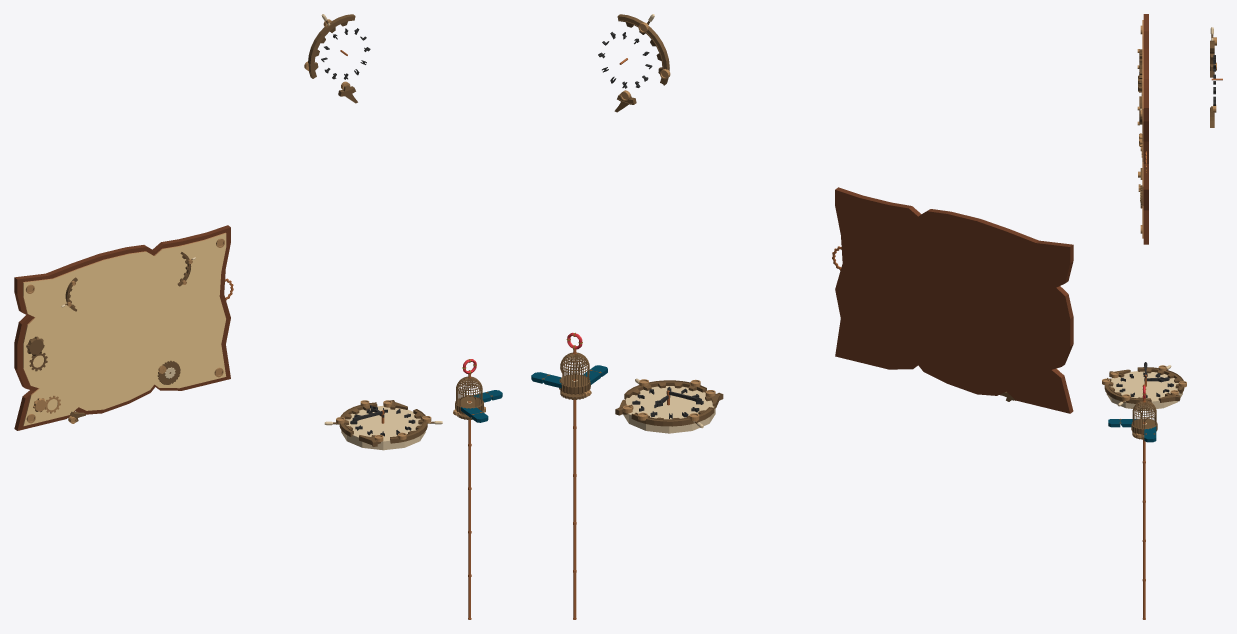
Rendered from Bridge_Canvas_PAsswordPanel_TowerClock_UserWatch.fbx.
3 renders of one model, left to right at view 1: azimuth 30°, elevation 25°; view 2: azimuth 150°, elevation 25°; view 3: azimuth 270°, elevation 25°, orthographic. The views are drawn at different scales.
Visible parts, largest first — view 1: Canvas, UserWatch, BridgeMainCage, TowerClock; view 2: Canvas, UserWatch, BridgeMainCage, TowerClock; view 3: UserWatch, Canvas, BridgeMainCage, TowerClock.
Boxes of the visible parts, x1,y1,x2,y2 form: Canvas: [14, 225, 233, 430]; UserWatch: [324, 400, 442, 450]; BridgeMainCage: [455, 359, 492, 619]; TowerClock: [304, 14, 370, 103]; Canvas: [832, 187, 1073, 413]; UserWatch: [615, 378, 723, 433]; BridgeMainCage: [542, 332, 601, 619]; TowerClock: [598, 14, 670, 112]; UserWatch: [1102, 365, 1186, 410]; Canvas: [1137, 14, 1148, 244]; BridgeMainCage: [1120, 384, 1157, 619]; TowerClock: [1210, 27, 1222, 127].
Bounding box in the file's own units: 424 × 502 × 101.
